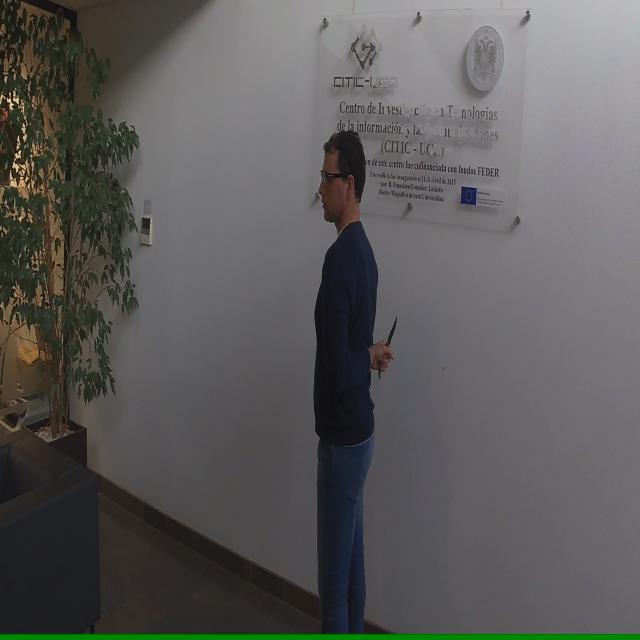knife: (374, 310, 400, 382)
